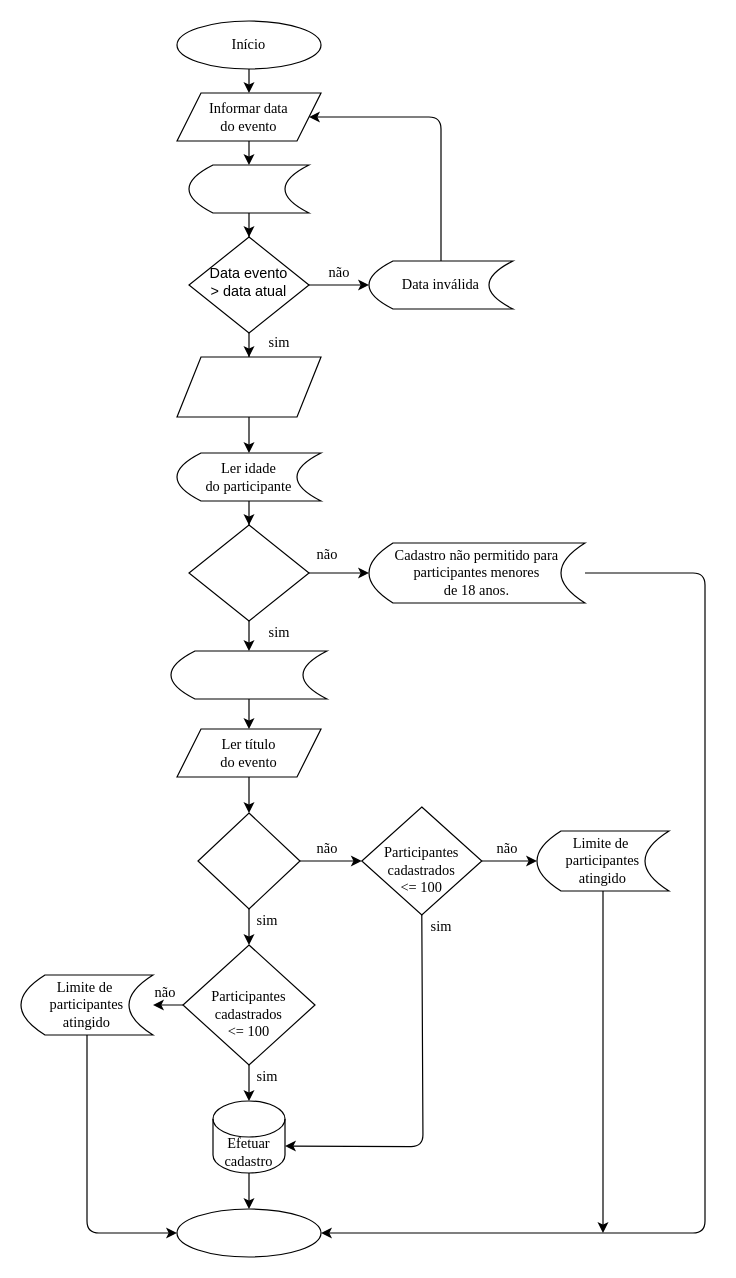
Image size: 736x1278. Some labels were removed from this diagram. The shapes that lost their labels are listed below. From the top down, each one's centre as x and y in pixels, then its label:
At point 248,188: "Ler data do evento".
At point 248,386: "Informar idade do participante".
At point 248,572: "Idade participante > 18".
At point 248,674: "Informar título do evento".
At point 248,860: "Evento 1".
At point 248,1232: "Fim".
